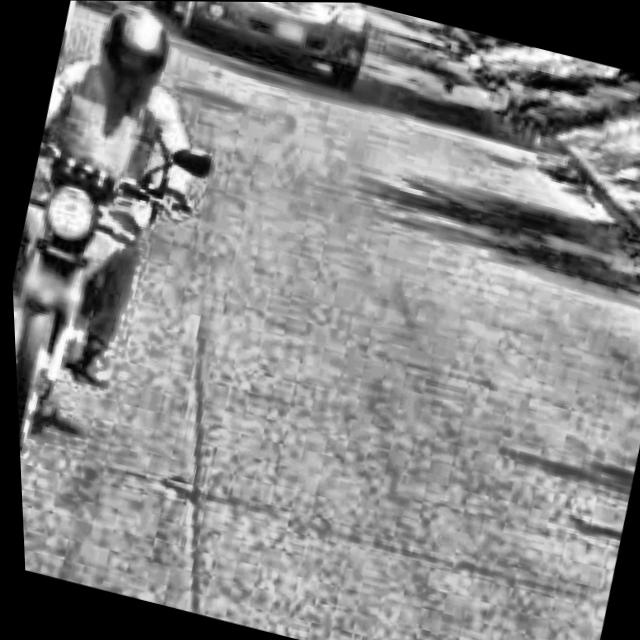motorcycle: (3, 83, 231, 489)
